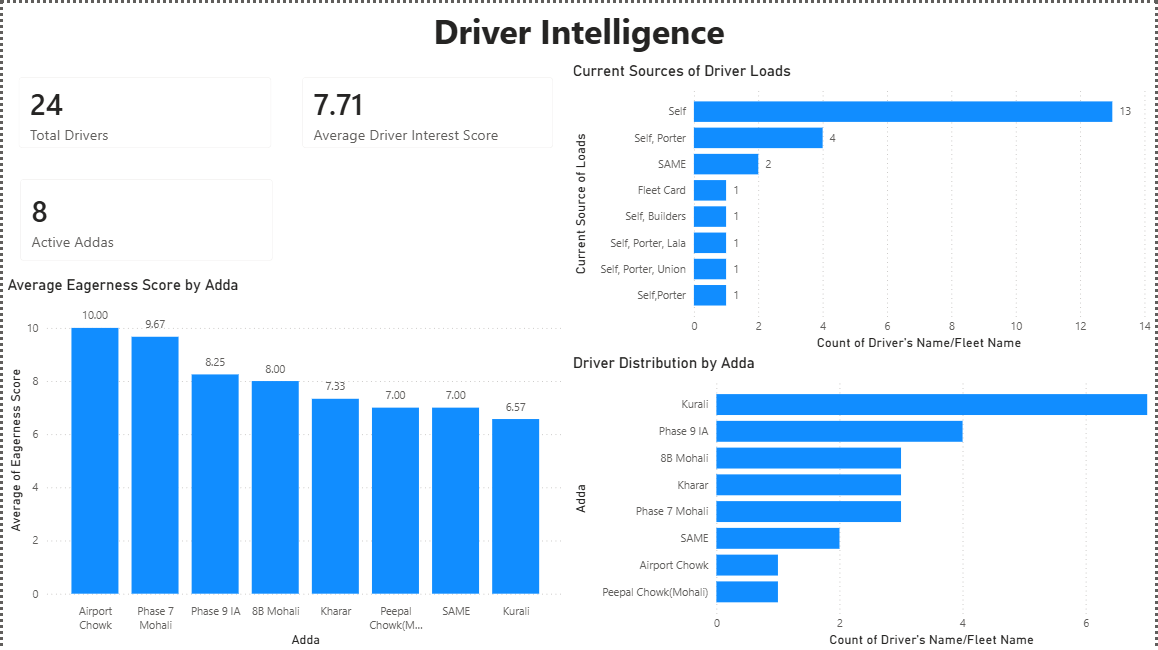

The dashboard page shown, as its layout file describes it:
{"tool":"powerbi","page":{"name":"Driver Intelligence","canvas":[1280,720],"ordinal":1},"visuals":[{"type":"clusteredBarChart","title":"Driver Distribution by Adda","fields":{"Category":["Drivers.Adda"],"Y":["CountNonNull(Drivers.Driver's Name/Fleet Name)"]},"box":[628.3,390,651.7,330],"z":0},{"type":"cardVisual","fields":{"Data":["CountNonNull(Drivers.S. No.)"]},"box":[0,65,315,113.3],"z":1001},{"type":"cardVisual","fields":{"Data":["Avg(Drivers.Eagerness Score)"]},"box":[315,65,313.3,113.3],"z":1002},{"type":"clusteredBarChart","title":"Current Sources of Driver Loads","fields":{"Category":["Drivers.Current Source of Loads"],"Y":["CountNonNull(Drivers.Driver's Name/Fleet Name)"]},"box":[628.3,65,651.7,325],"z":1003},{"type":"clusteredColumnChart","title":"Average Eagerness Score by Adda","fields":{"Category":["Drivers.Adda"],"Y":["Avg(Drivers.Eagerness Score)"]},"box":[0,303.3,628.3,416.7],"z":1004},{"type":"cardVisual","fields":{"Data":["Count(Drivers.Adda)"]},"box":[1.7,178.3,315,125],"z":1005},{"type":"textbox","box":[0,0,1280,65],"z":1006}]}

Visuals, with their boxes in screenshot pixels (x1, y1, x2, y2), scaled from the page's 1280x720 canvas onto the 1158x650 screenshot:
"Driver Distribution by Adda" clusteredBarChart: l=568, t=352, r=1157, b=649
cardVisual - CountNonNull(Drivers.S. No.): l=0, t=59, r=285, b=161
cardVisual - Avg(Drivers.Eagerness Score): l=285, t=59, r=568, b=161
"Current Sources of Driver Loads" clusteredBarChart: l=568, t=59, r=1157, b=352
"Average Eagerness Score by Adda" clusteredColumnChart: l=0, t=274, r=568, b=649
cardVisual - Count(Drivers.Adda): l=2, t=161, r=287, b=274
textbox: l=0, t=0, r=1157, b=59
